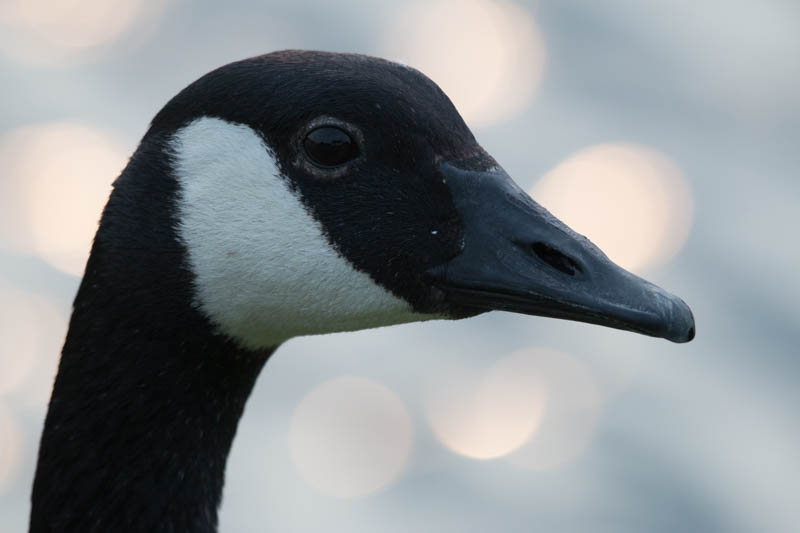goose-head: (90, 50, 696, 359)
